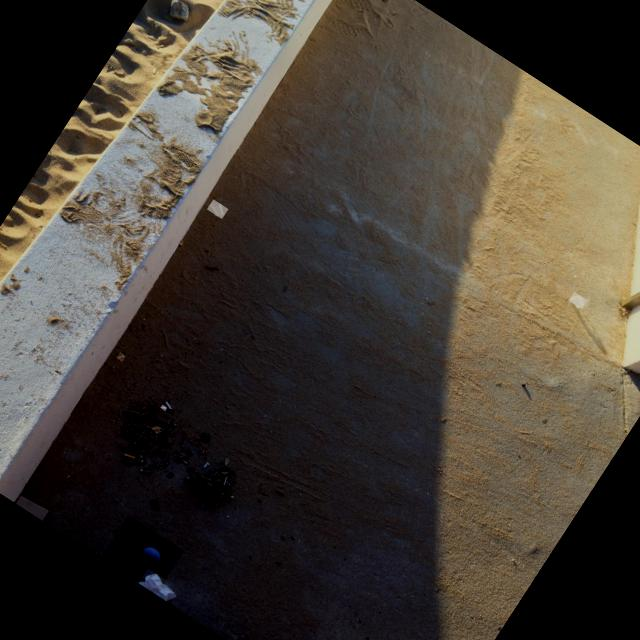Cigarette: (165, 402, 172, 411), (118, 442, 125, 448), (123, 459, 131, 464), (116, 354, 124, 359), (124, 454, 133, 458), (140, 470, 150, 473), (178, 240, 183, 246), (125, 461, 131, 465), (151, 427, 159, 430), (160, 406, 165, 409)
Cup: (208, 203, 222, 217), (569, 296, 583, 307)
Paper bag: (138, 574, 175, 601)
Plastic film: (102, 530, 175, 582)
